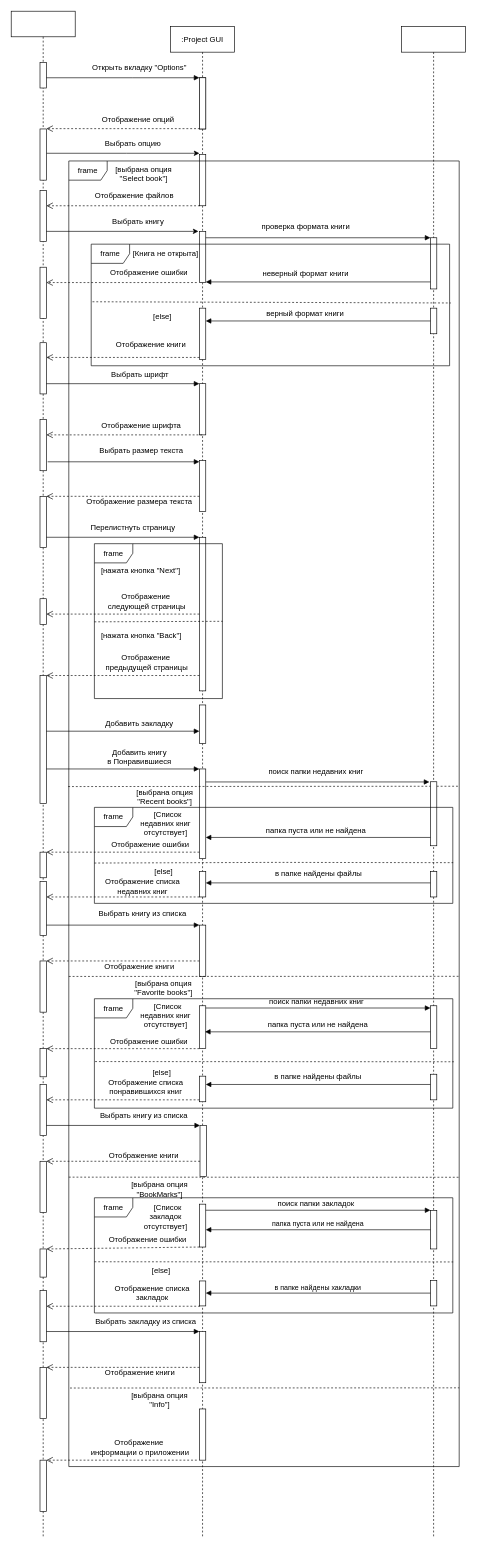
The diagram is 477 pixels wide and 1548 high, and some of its shapes have lost their labels. The shapes that lost their labels are listed below. From the top down, each one's centre as x and y in pixels, then its label:
At (x=43, y=774): ":User".
At (x=433, y=781): ":Project Code".
